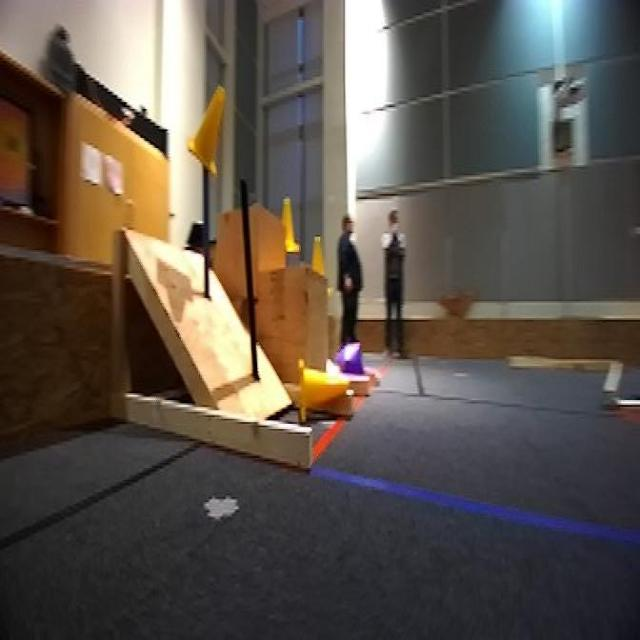frc_cone: (182, 87, 228, 175), (294, 359, 350, 419), (276, 189, 301, 255), (312, 236, 328, 278)
frc_cube: (338, 344, 365, 383)
